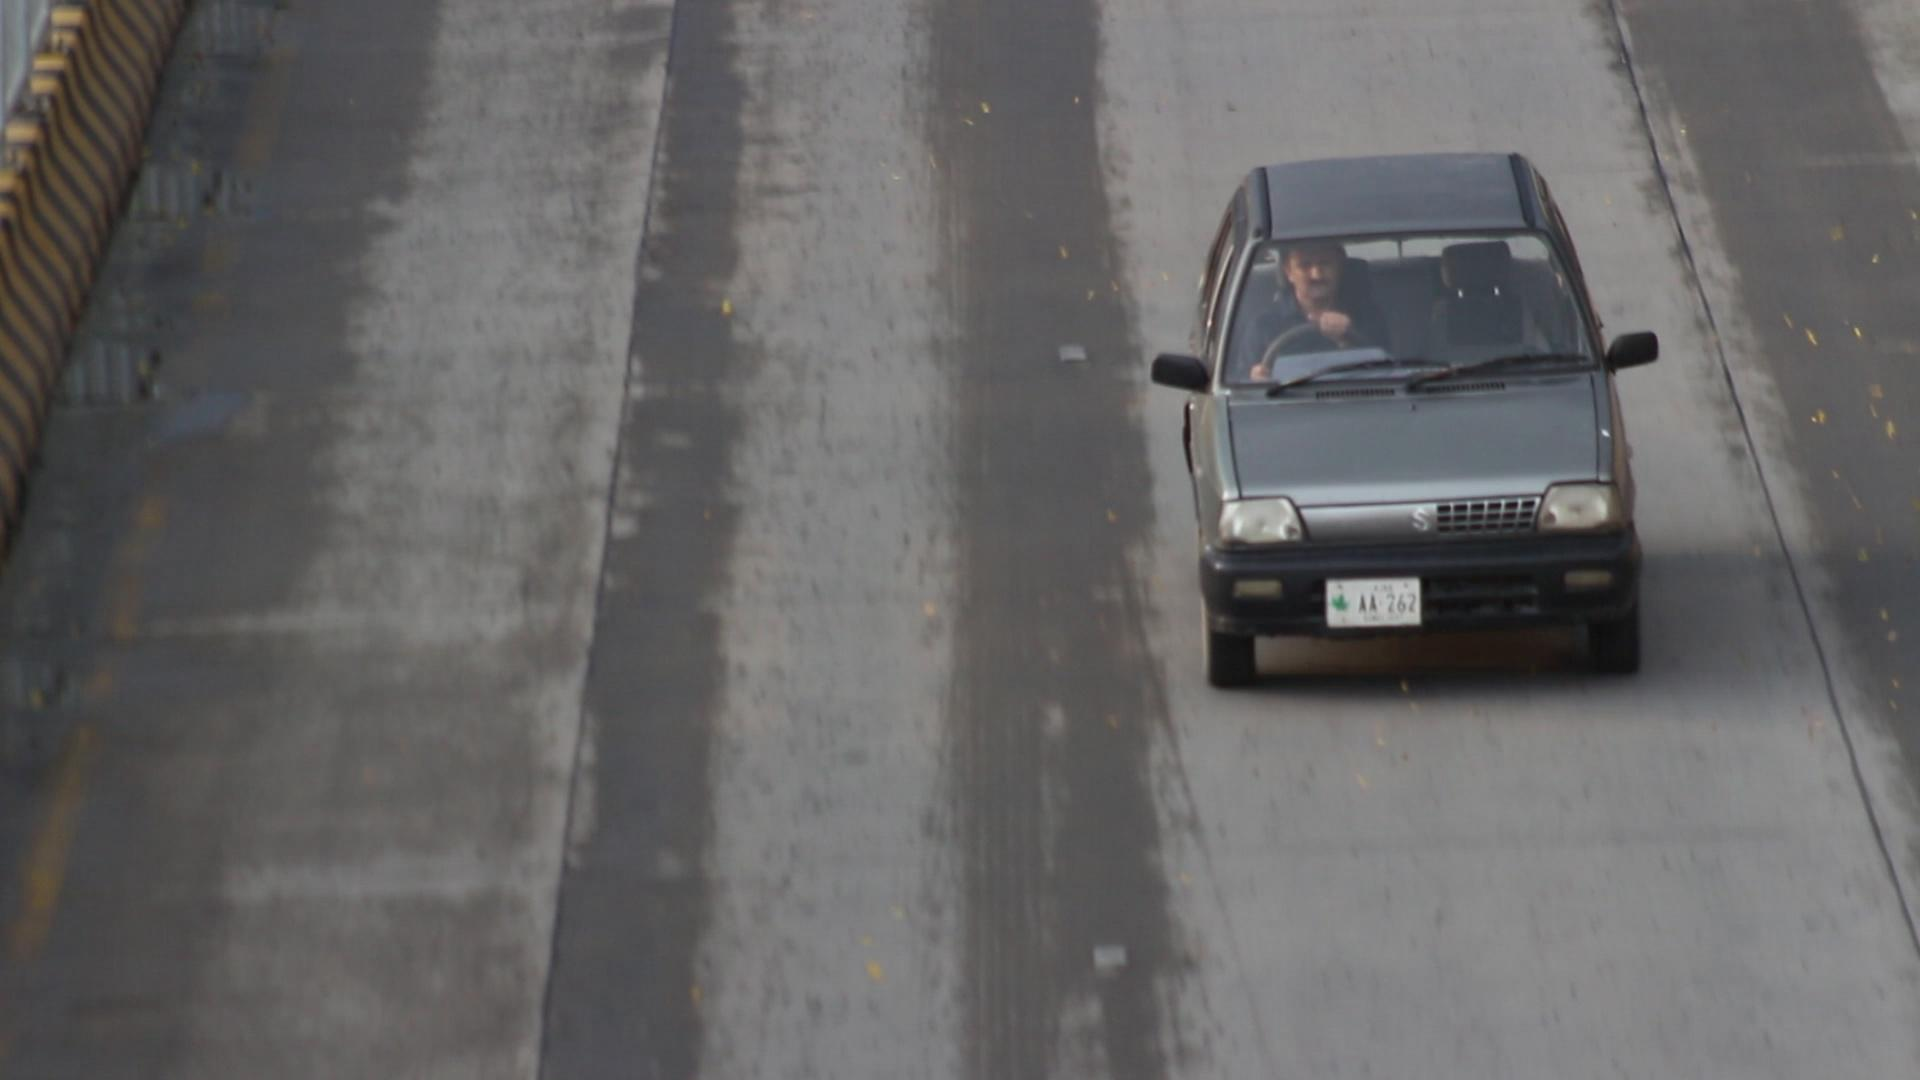windshield: (1211, 214, 1614, 406)
